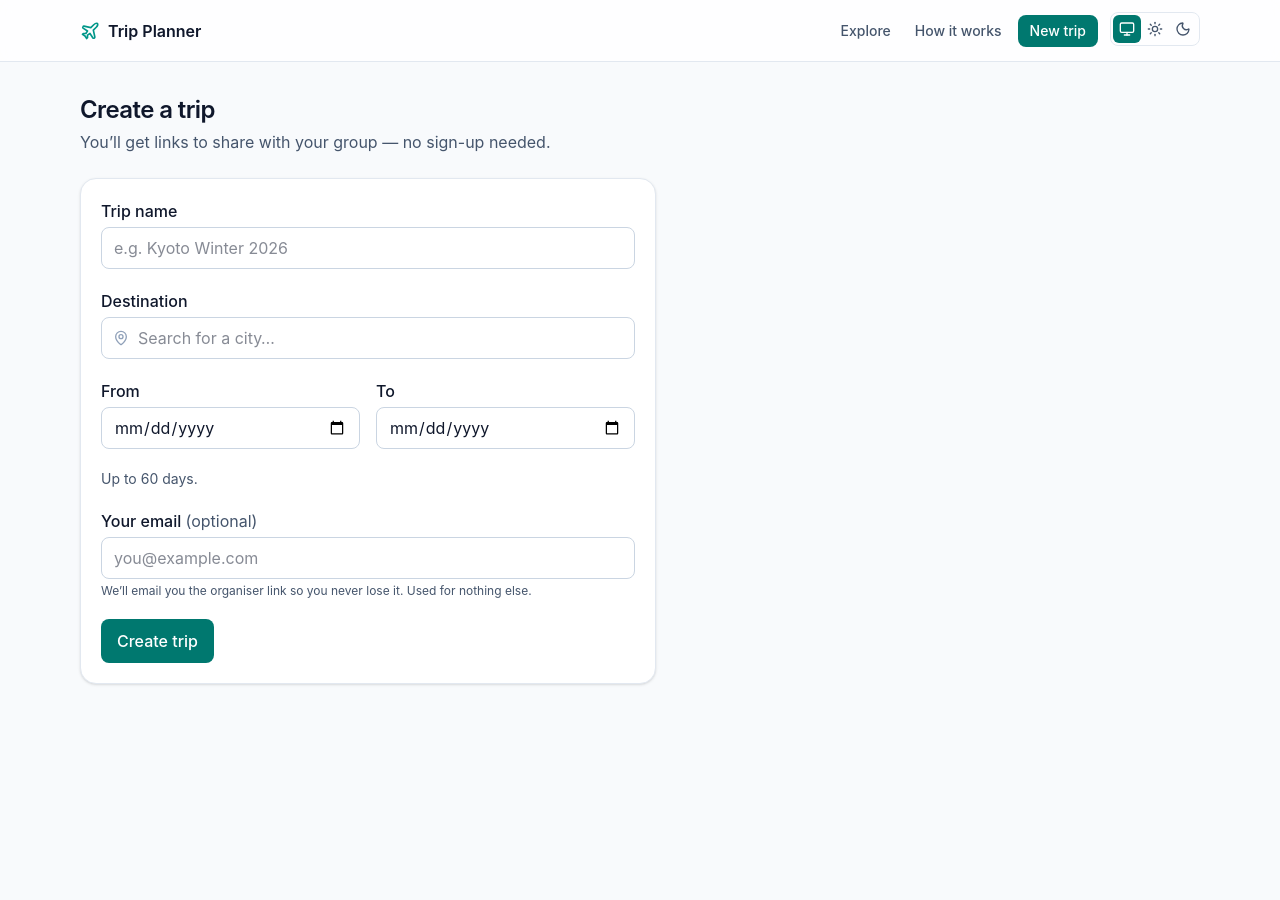
Test: CreateTripPage (F1) › validates required fields on submit (AC1.6)
Click the button "Create trip".
click(157, 641)  # box [101,619,214,663]
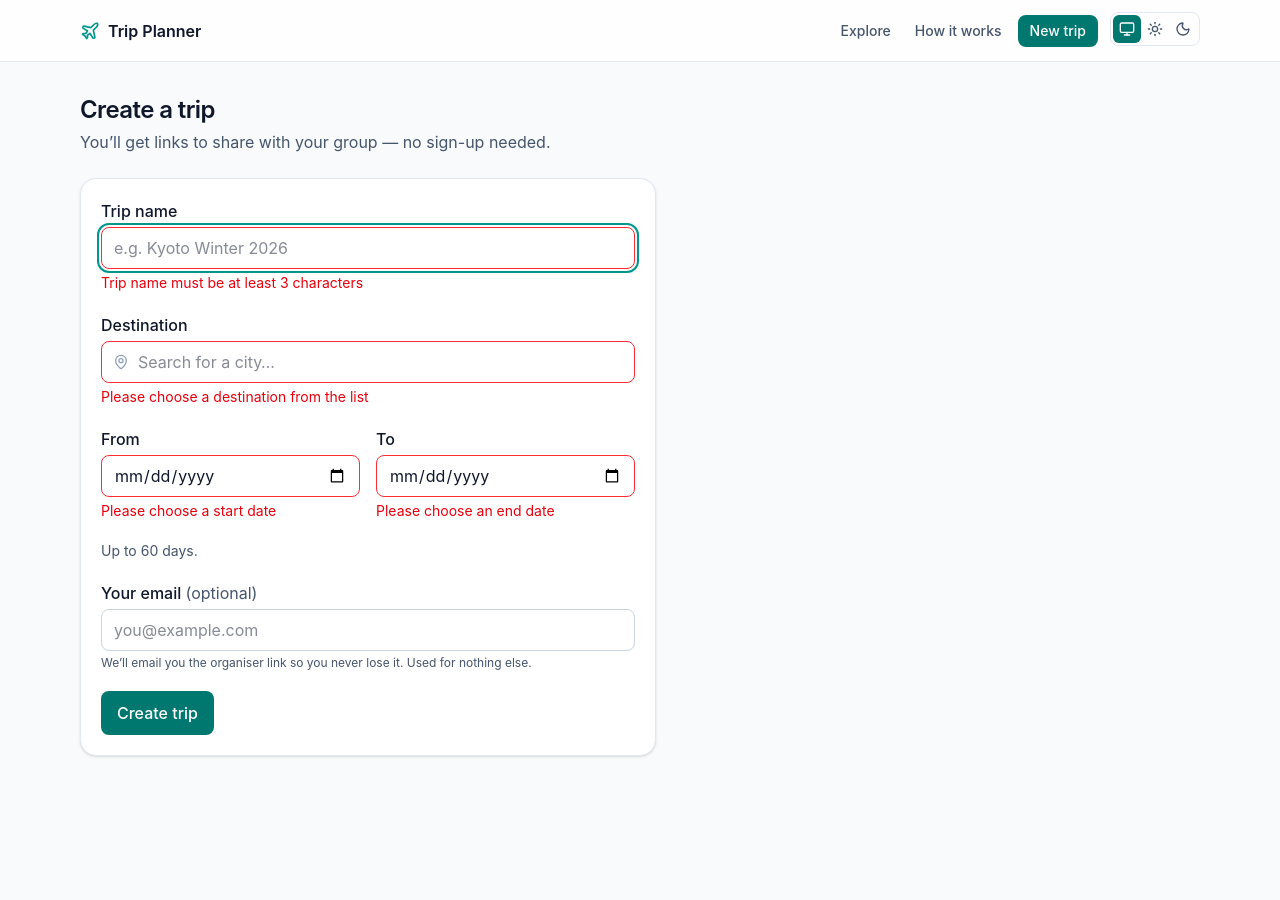
Result: the text "Trip name must be at least 3 characters" is shown at [101,274,363,291]
Result: the text "Please choose a destination from the list" is shown at [101,388,369,405]
Result: the text "Please choose a start date" is shown at [101,502,276,519]
